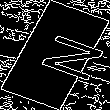N_NW: (15, 27, 95, 83)
